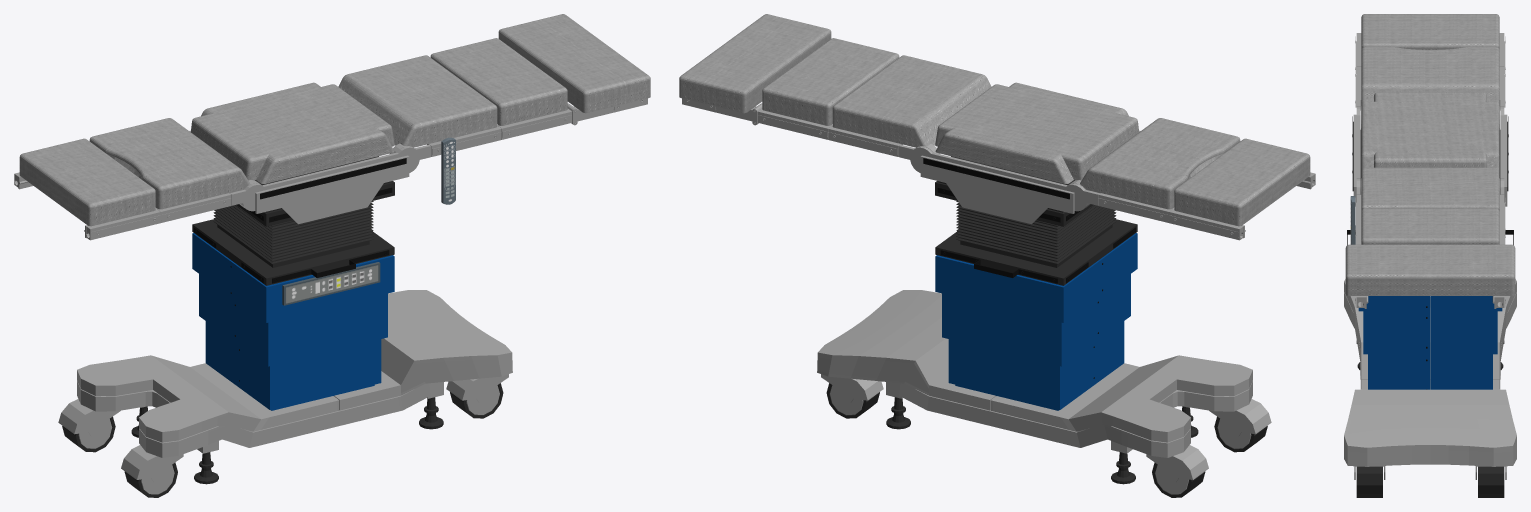
File: operatingTable.glb
The picture shows the model from 3 angles, left to right: view 1: azimuth 30°, elevation 25°; view 2: azimuth 150°, elevation 25°; view 3: azimuth 270°, elevation 25°; orthographic projection. The views are drawn at different scales.
Visible parts, largest first — view 1: Operating Table; view 2: Operating Table; view 3: Operating Table.
Boxes of the visible parts, <box> form: Operating Table: <box>14,14,650,497</box>; Operating Table: <box>679,14,1315,497</box>; Operating Table: <box>1344,14,1516,497</box>.
Bounding box in the file's own units: 2.11 × 1.11 × 0.5842.
7 materials, 3 textured.
